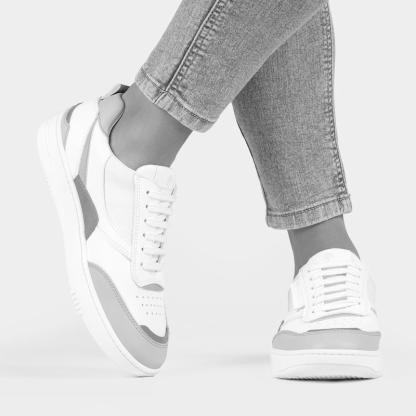ankle: (110, 154, 115, 160), (314, 301, 319, 306)
heel: (67, 110, 72, 115), (289, 314, 294, 318)
left_foot: (38, 105, 170, 378)
pinky: (126, 336, 134, 345), (292, 335, 298, 339)
right_foot: (271, 252, 385, 382)
toe: (164, 349, 168, 355), (373, 338, 377, 342)
